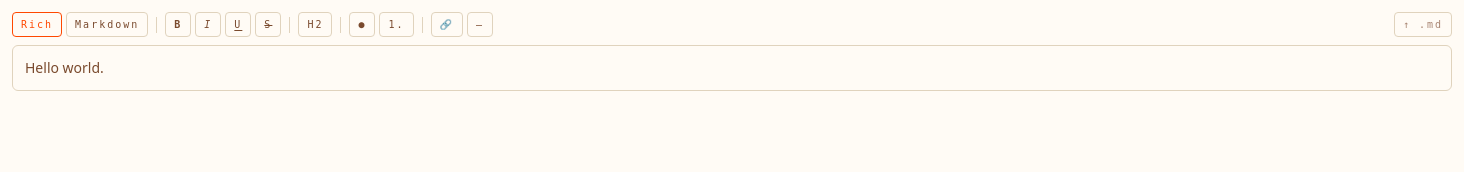
<NotesEditor> rich-text toolbar (#126) › clicking the link button opens the inline link picker
Click the button with test id "notes-toolbar-link". click: (447, 24)
box: top-left (430, 12), bottom-right (463, 37)
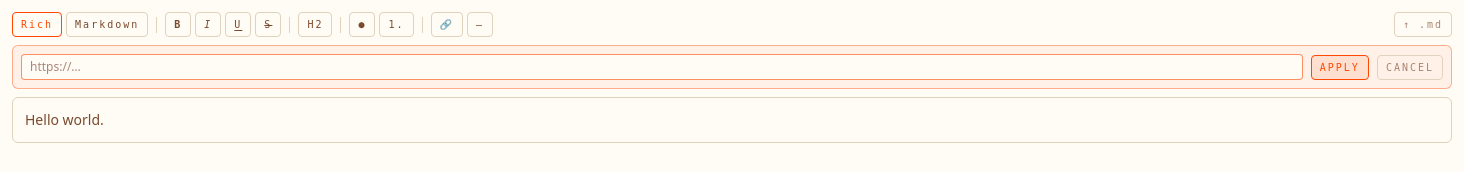
Expected: the element with test id "notes-link-picker" is shown, top-left (12, 45), bottom-right (1452, 89)
